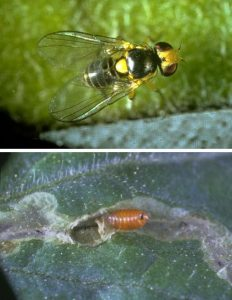Trifoli: (43, 23, 175, 124)
